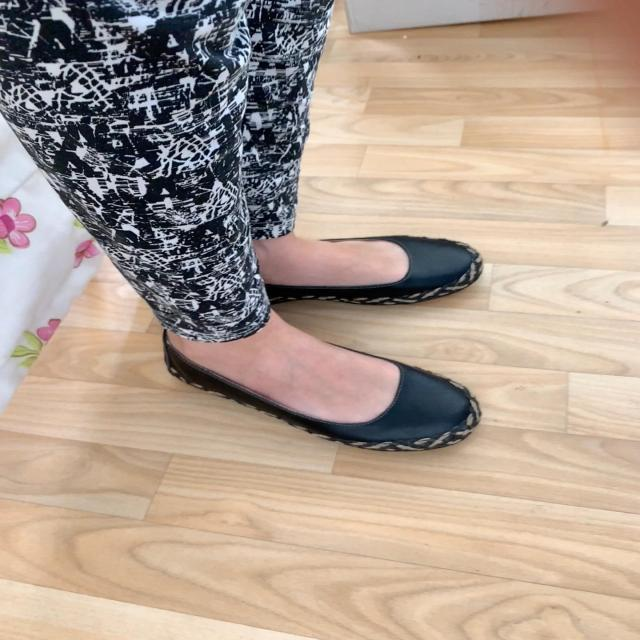shoe: (161, 310, 483, 450), (255, 236, 486, 303)
